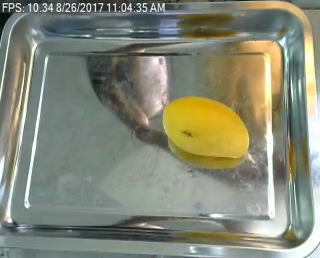Mango: (161, 98, 252, 163)
